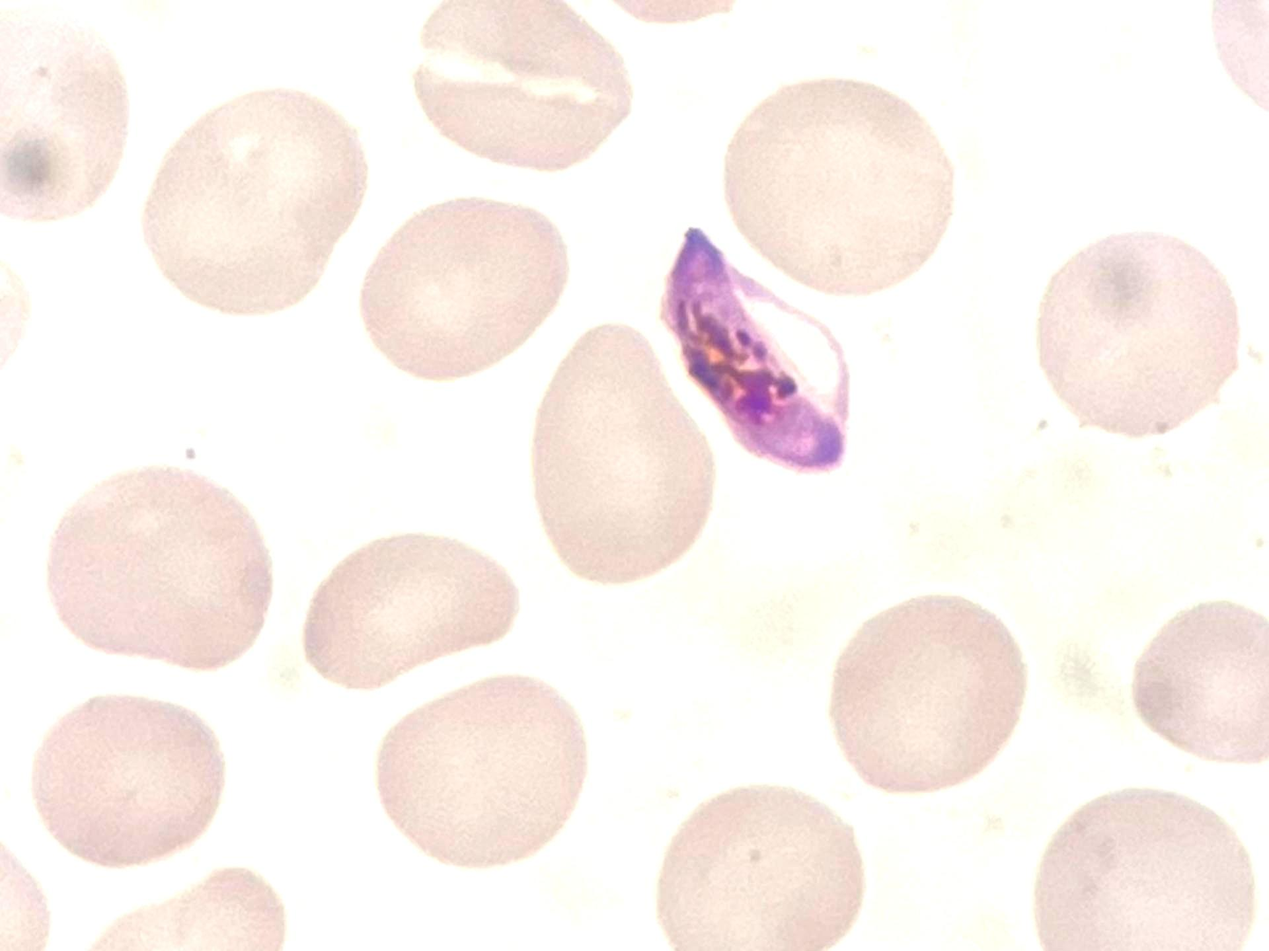Infected: (665, 223, 855, 474)
Uninfected: (141, 80, 352, 314), (725, 80, 955, 293), (533, 327, 714, 583), (48, 472, 276, 675), (1031, 236, 1238, 436), (370, 673, 579, 866), (364, 192, 564, 383), (414, 5, 632, 179), (837, 587, 1022, 787), (1033, 781, 1247, 951), (663, 783, 869, 951), (26, 688, 217, 860), (308, 536, 517, 687), (1126, 593, 1269, 761)
